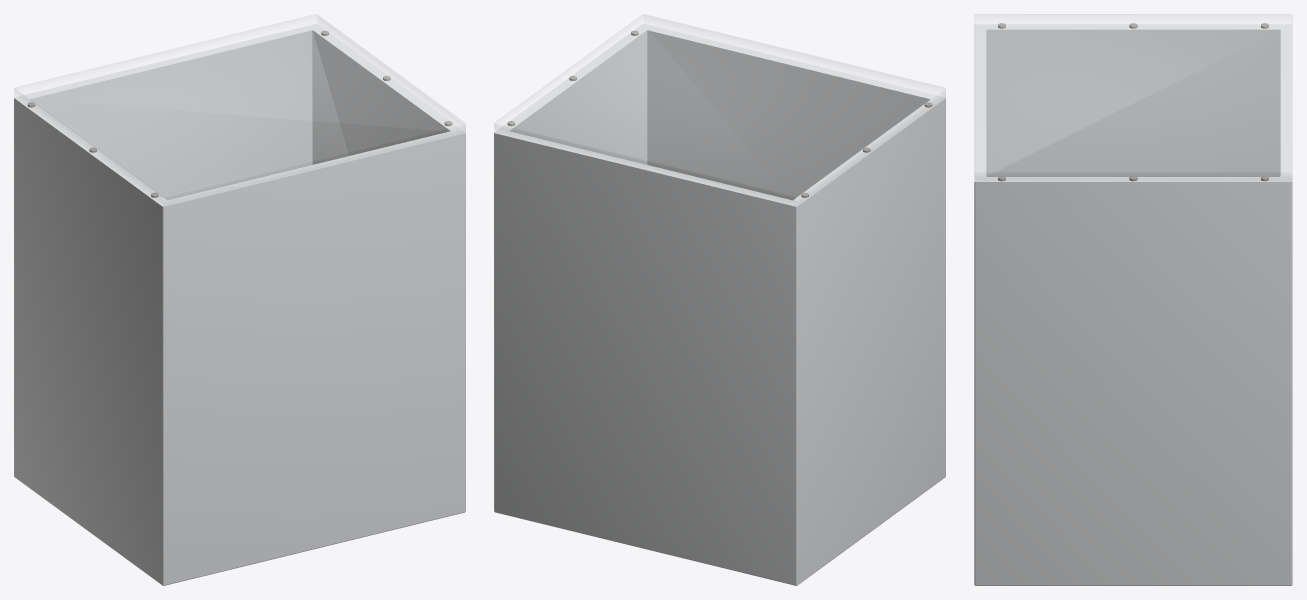
File: acrylic-case-6inch.glb
The picture shows the model from 3 angles, left to right: view 1: azimuth 30°, elevation 25°; view 2: azimuth 150°, elevation 25°; view 3: azimuth 270°, elevation 25°; orthographic projection. The views are drawn at different scales.
Visible parts, largest first — view 1: Cube, Cube.002; view 2: Cube, Cube.002; view 3: Cube, Cube.002.
Part boxes in pixels (x1,y1,x2,y2): Cube: [14, 24, 465, 585]; Cube.002: [14, 14, 465, 205]; Cube: [494, 23, 945, 585]; Cube.002: [494, 14, 945, 205]; Cube: [974, 24, 1292, 585]; Cube.002: [974, 14, 1292, 181].
Bounding box in the file's own units: 0.184 × 0.226 × 0.157.
4 materials, 3 textured.
